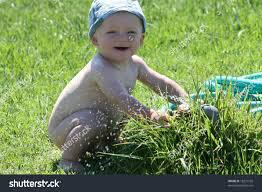child: (32, 1, 185, 173)
